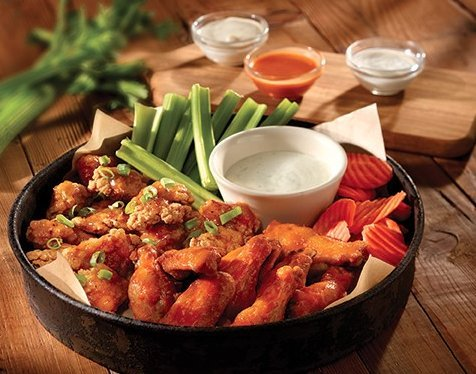sushi: (18, 145, 424, 370), (210, 125, 348, 228), (345, 37, 427, 97), (244, 45, 324, 103), (190, 11, 270, 68)
